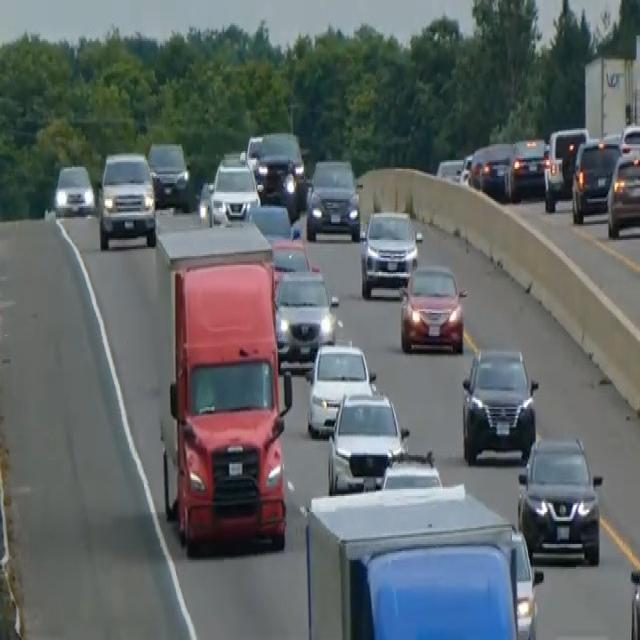car: (516, 434, 603, 565), (460, 343, 539, 464), (325, 388, 408, 492), (305, 338, 376, 437), (398, 261, 467, 354), (273, 266, 339, 362), (98, 149, 156, 249), (359, 206, 421, 297), (305, 156, 361, 242), (253, 130, 305, 215), (570, 134, 620, 222), (205, 149, 260, 224), (542, 125, 588, 212), (606, 144, 639, 238), (147, 139, 190, 208), (379, 447, 443, 492), (468, 140, 515, 201), (510, 135, 548, 199), (53, 162, 94, 217), (268, 234, 311, 284), (246, 201, 293, 242), (435, 155, 465, 183), (628, 564, 639, 638), (244, 131, 263, 169), (618, 121, 639, 155)
lorry: (154, 221, 293, 551), (305, 482, 543, 638)
